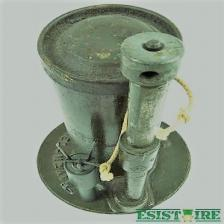M2A1: (34, 2, 191, 214)
